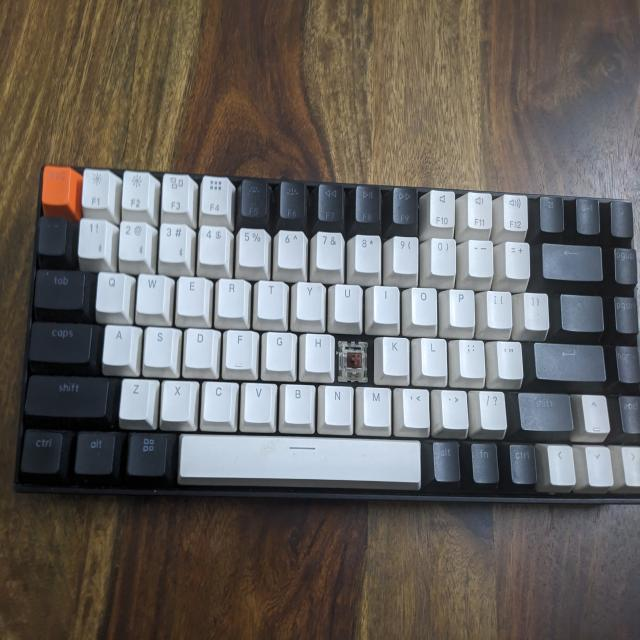C: (337, 338, 370, 378)
